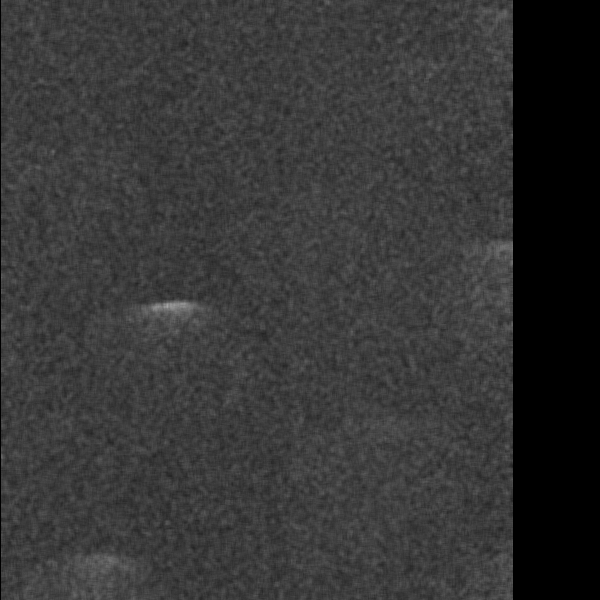spark: (310, 482, 409, 583), (197, 532, 296, 586), (288, 182, 365, 245)
